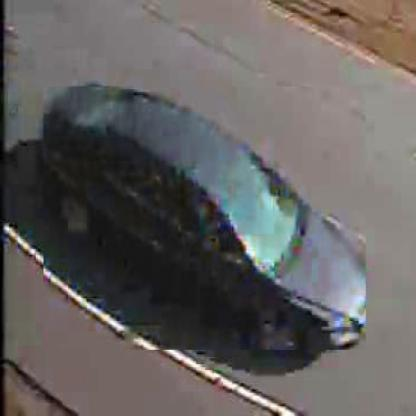car: (44, 88, 368, 353)
